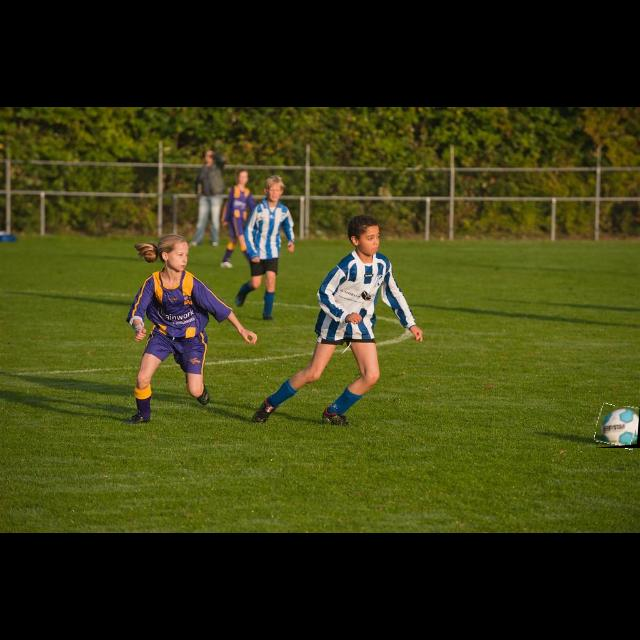Football: (596, 406, 640, 448)
